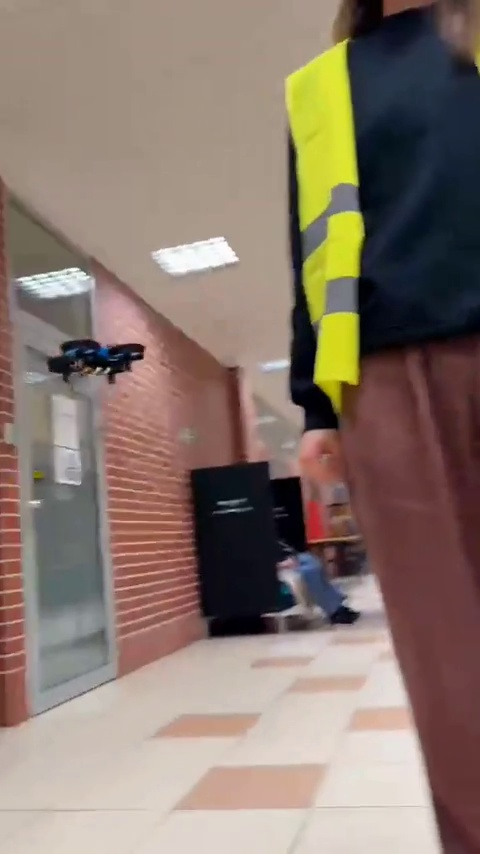drone: (41, 340, 146, 381)
vest: (271, 61, 480, 854)
